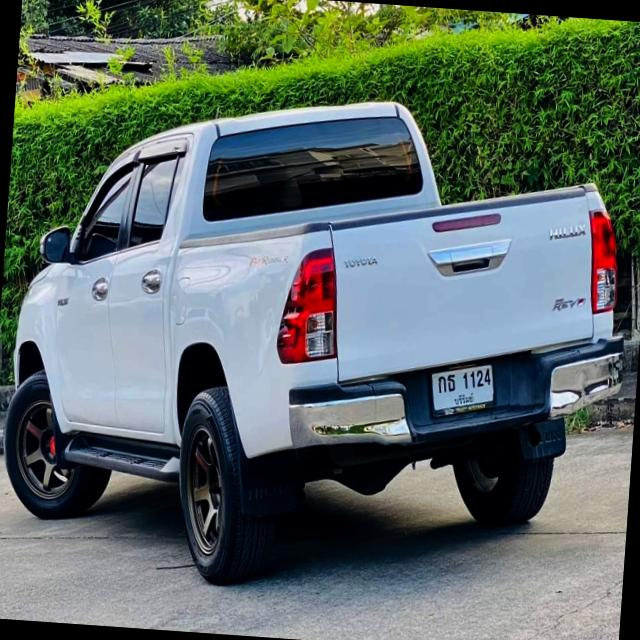license_plate: (424, 350, 501, 424)
